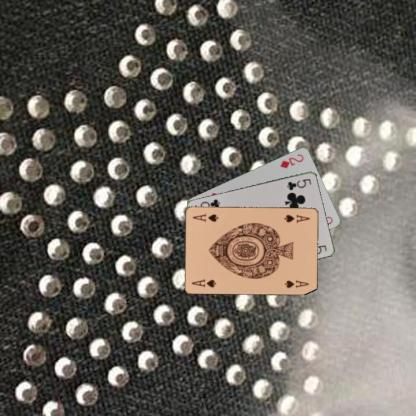2d: (277, 152, 305, 170)
5c: (284, 176, 313, 191)
As: (189, 276, 217, 288), (282, 212, 311, 223)
